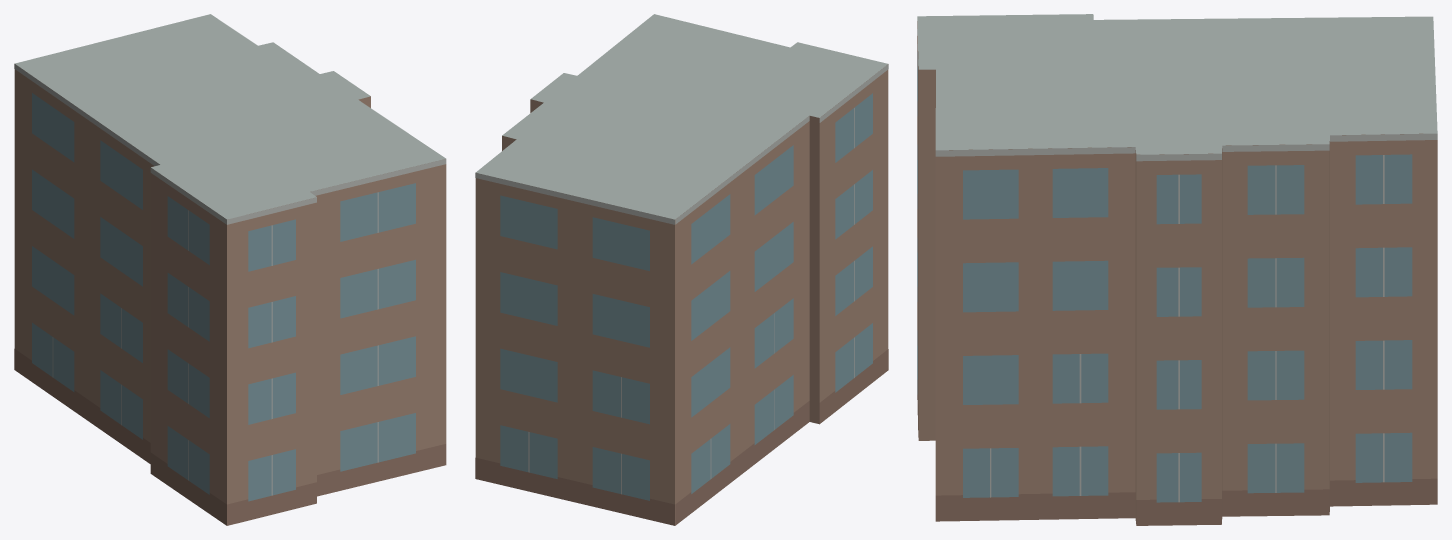
Rendered from survey-upis-32520143.glb.
3 renders of one model, left to right at view 1: azimuth 30°, elevation 25°; view 2: azimuth 150°, elevation 25°; view 3: azimuth 270°, elevation 25°, orthographic. The views are drawn at different scales.
Parts seen in each view (by area): view 1: survey-upis-32520143.tmp; view 2: survey-upis-32520143.tmp; view 3: survey-upis-32520143.tmp.
Part boxes in pixels (x1=…): survey-upis-32520143.tmp: x1=14, y1=14, x2=446, y2=525; survey-upis-32520143.tmp: x1=475, y1=14, x2=888, y2=525; survey-upis-32520143.tmp: x1=917, y1=14, x2=1437, y2=525.
Bounding box in the file's own units: 11.4 × 14 × 17.8.
